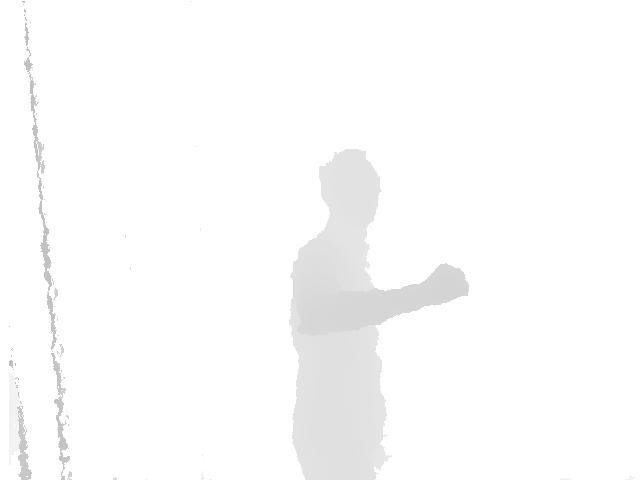head: (319, 149, 382, 229)
person: (287, 150, 470, 480)
